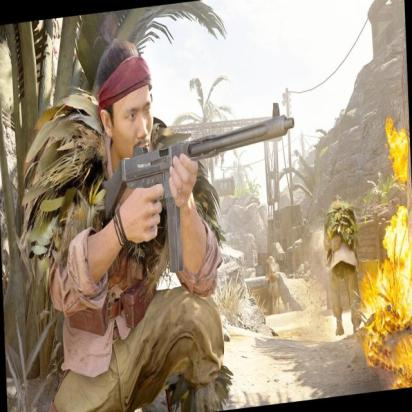Gun: (91, 101, 304, 223)
